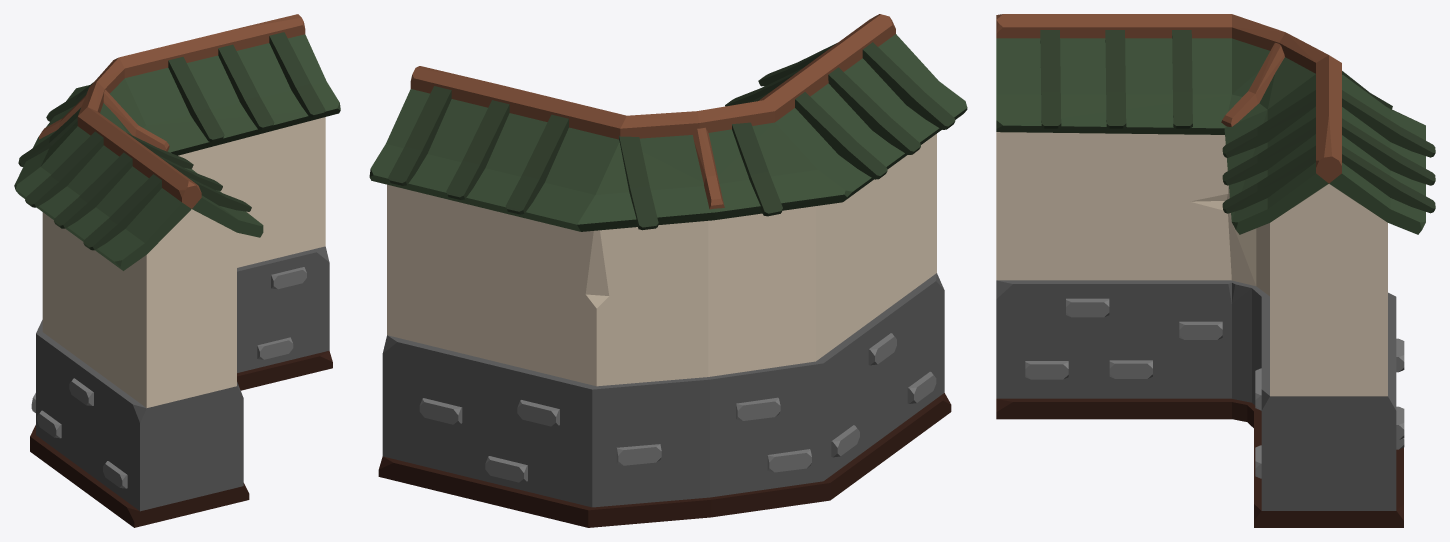
Rendered from GardenWall_5 Asia.fbx.
3 views of the same model, side by side, from view 1: azimuth 30°, elevation 25°; view 2: azimuth 150°, elevation 25°; view 3: azimuth 270°, elevation 25° (orthographic). The views are drawn at different scales.
Parts seen in each view (by area): view 1: GardenWall_5; view 2: GardenWall_5; view 3: GardenWall_5.
Part boxes in pixels (x1=…): GardenWall_5: x1=14, y1=14, x2=340, y2=527; GardenWall_5: x1=369, y1=14, x2=967, y2=527; GardenWall_5: x1=996, y1=14, x2=1435, y2=527.
Bounding box in the file's own units: 3.01 × 2.82 × 3.01.
